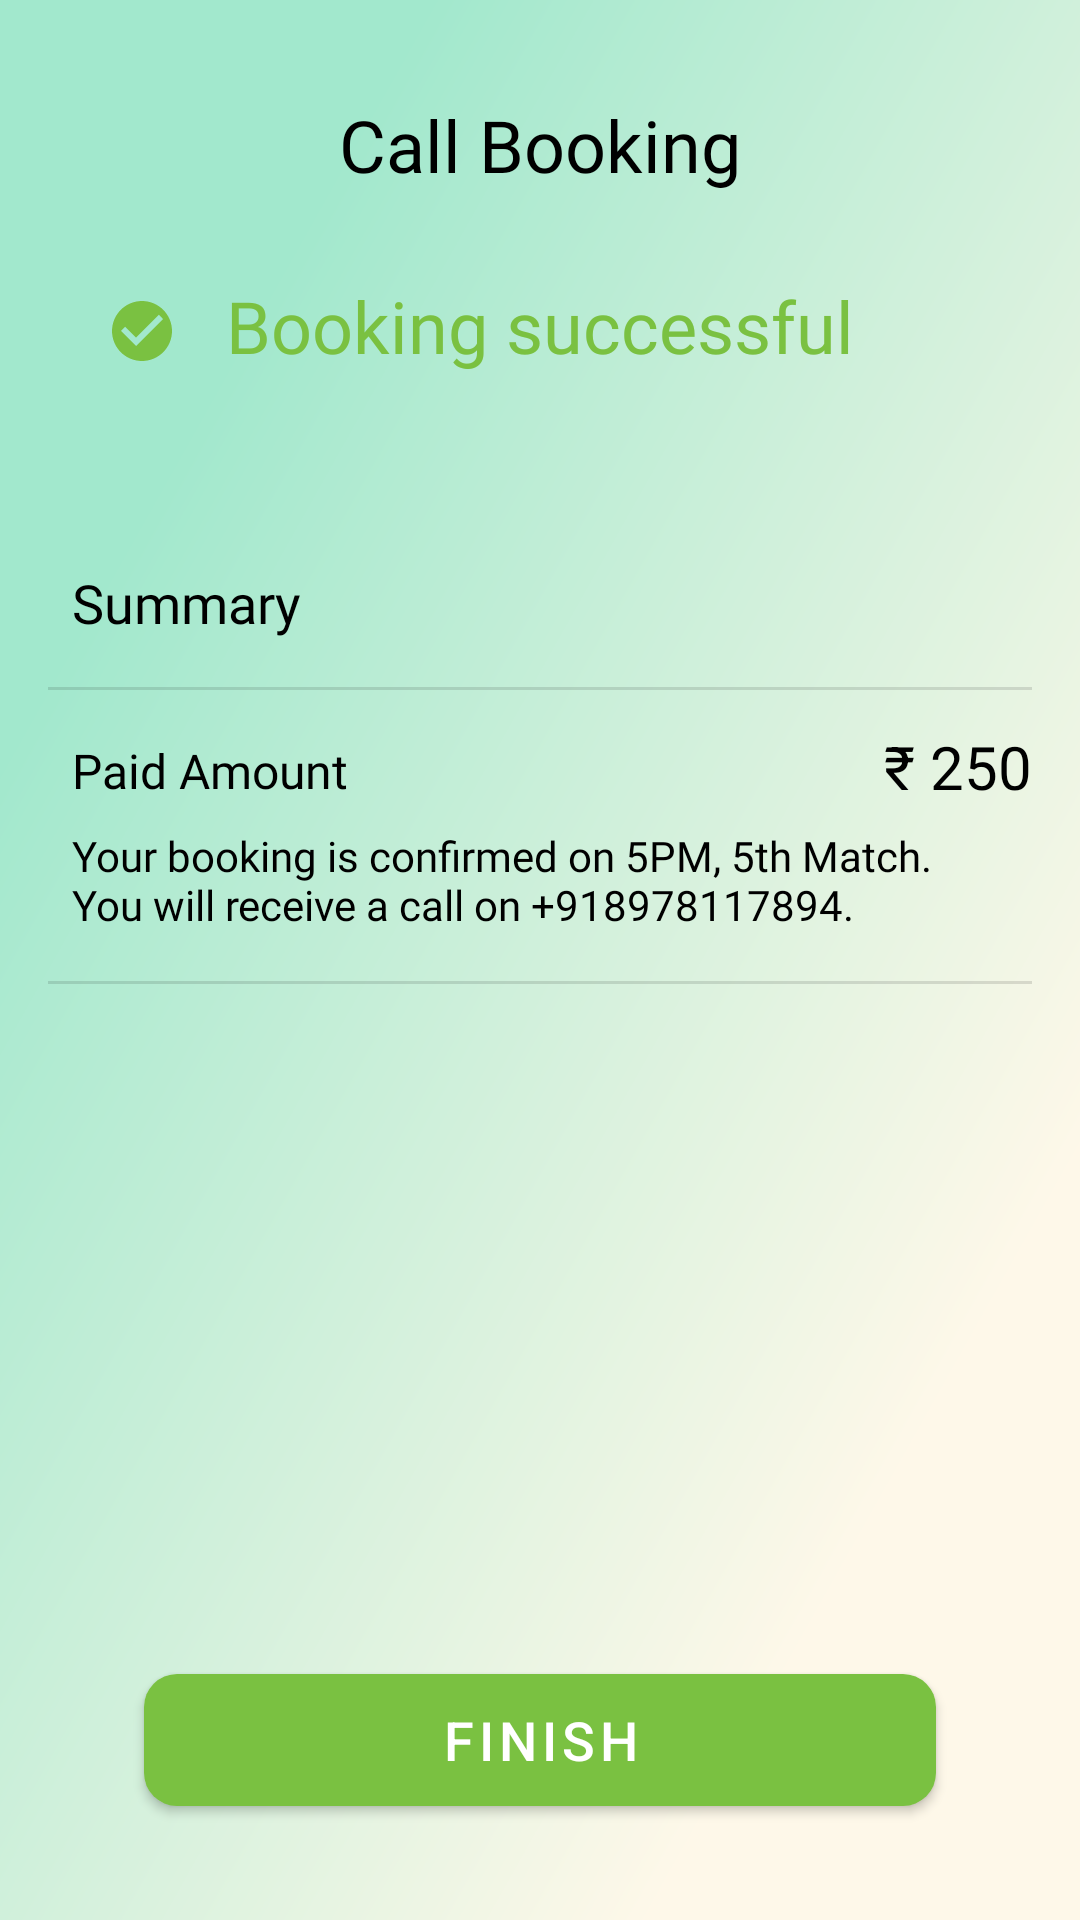

Screen size 1080px×1920px. Icon name, then its box in pixels as (x1,y1,x2,y2):
check circle: (112,301,172,361)
